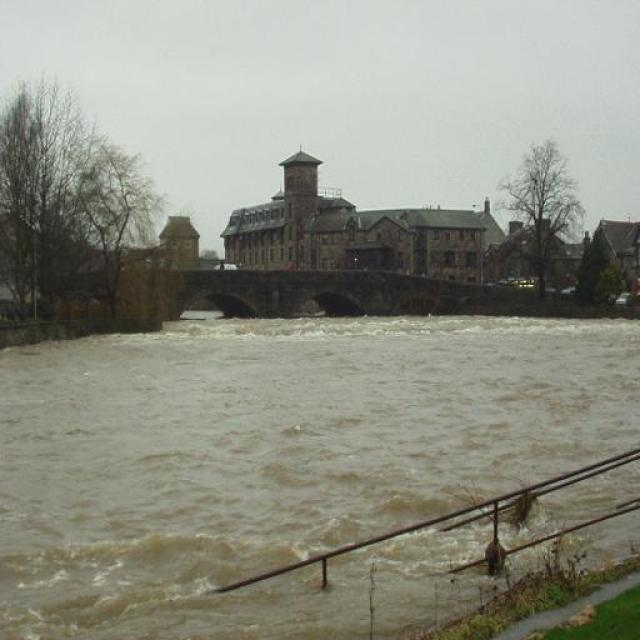puddle: (2, 358, 640, 541), (173, 322, 442, 640), (4, 349, 165, 640), (412, 321, 640, 436)
